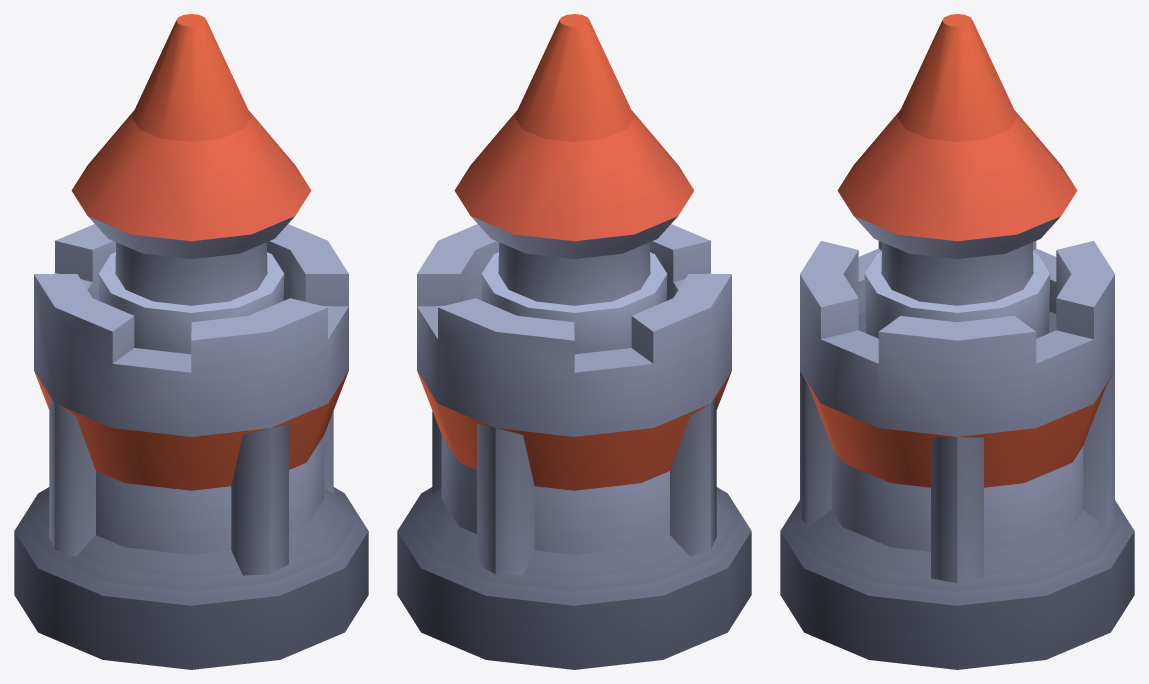
Rendered from kenney-tower-defense-tower-round-build-d.glb.
3 renders of one model, left to right at view 1: azimuth 30°, elevation 25°; view 2: azimuth 150°, elevation 25°; view 3: azimuth 270°, elevation 25°, orthographic.
Parts seen in each view (by area): view 1: tower-round-build-d; view 2: tower-round-build-d; view 3: tower-round-build-d.
Part boxes in pixels (x1,y1,x2,y2): tower-round-build-d: (14, 14, 368, 669); tower-round-build-d: (397, 14, 751, 669); tower-round-build-d: (780, 14, 1134, 669).
Bounding box in the file's own units: 1 × 1.79 × 1.
1 material, 1 textured.
